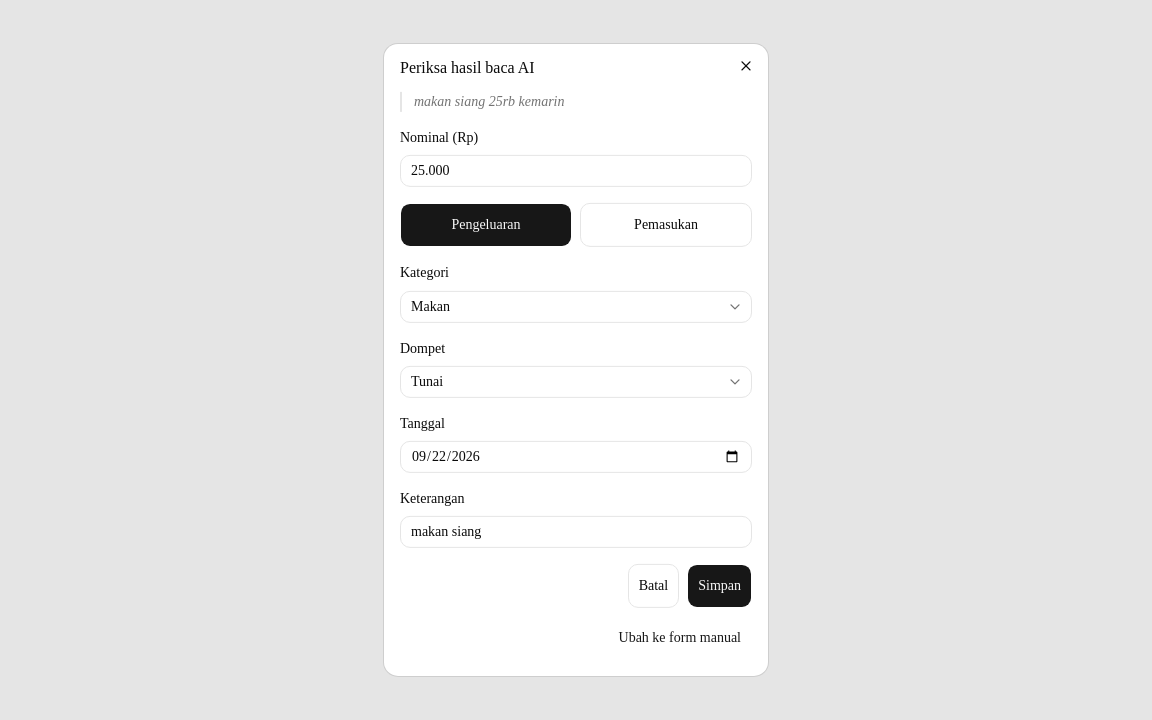
Test case: ConfirmCard › selama menyimpan: Batal/manual disabled, Esc diabaikan, status diumumkan
The image size is (1152, 720).
Step 1. Click the button "Simpan" → (720, 586), box 687,564 -> 752,608
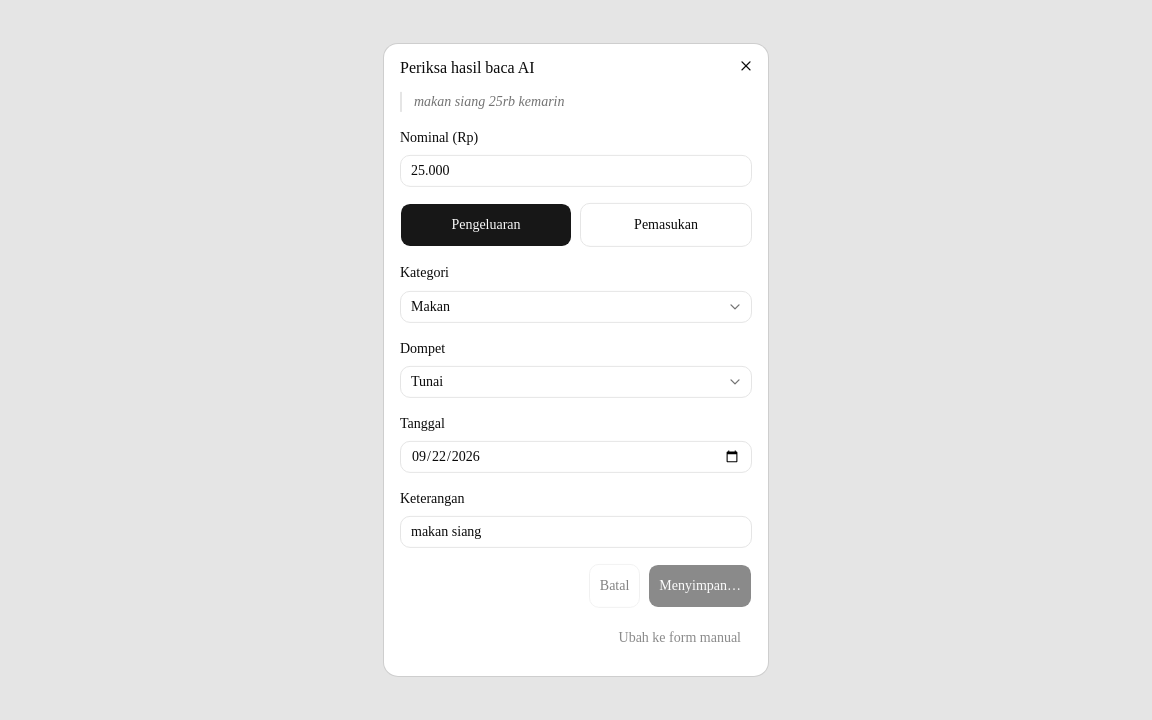
expect the button "Batal" is disabled: met, box 589,564 -> 640,608
expect the button "Ubah ke form manual" is disabled: met, box 608,616 -> 752,660
Step 2. Press Escape in the dialog, box 384,44 -> 768,676
Step 3. Click the button "Batal" → (615, 586), box 589,564 -> 640,608
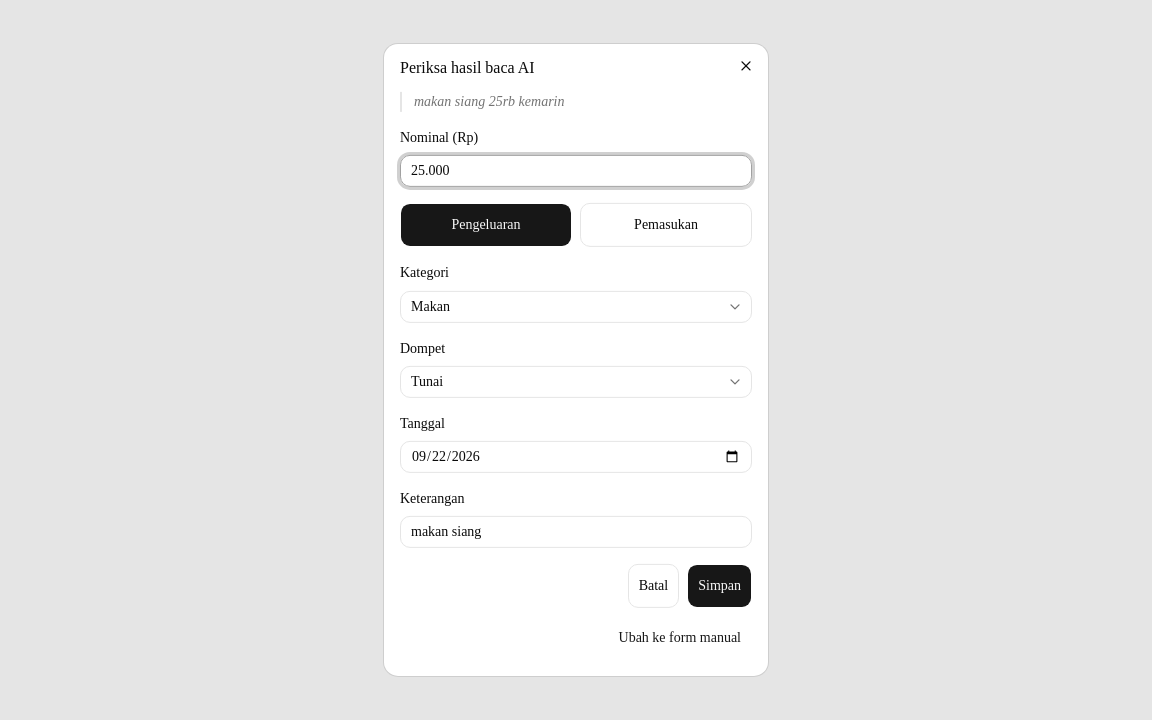
expect the button "Batal" is enabled: met, box 628,564 -> 679,608
